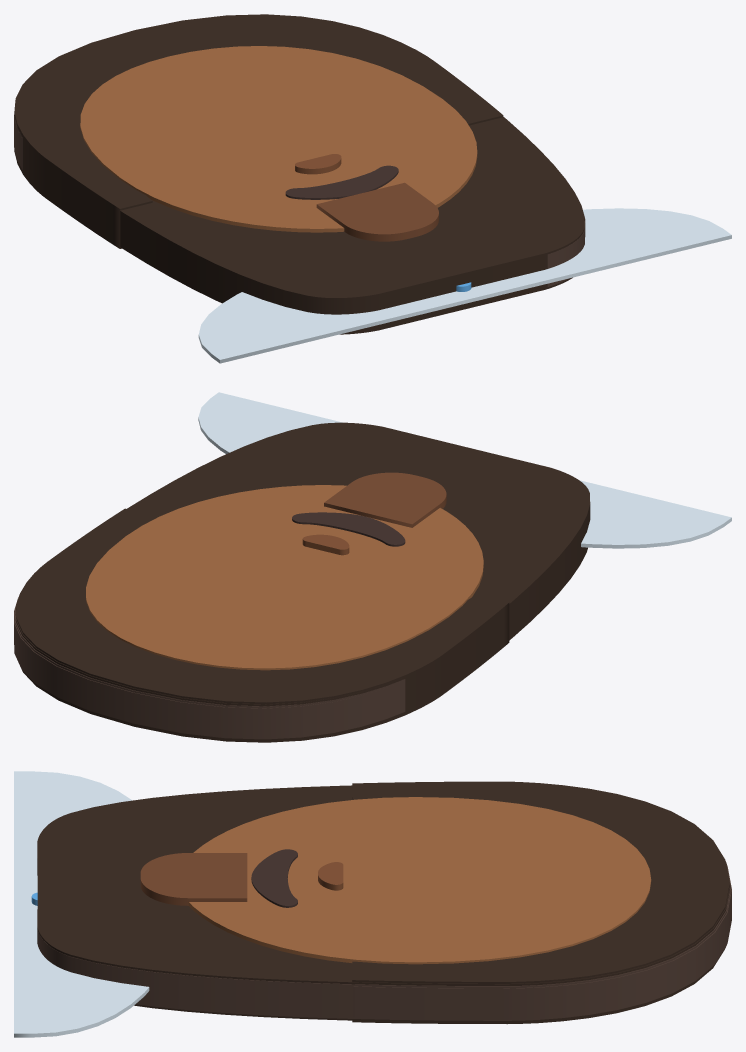
File: emoji_u1f469_1f3fe_200d_1f4bc.glb
3 views of the same model, one above another, from view 1: azimuth 30°, elevation 25°; view 2: azimuth 150°, elevation 25°; view 3: azimuth 270°, elevation 25° (orthographic). The views are drawn at different scales.
Parts seen in each view (by area): view 1: emoji_u1f469_1f3fe_200d_1f4bc; view 2: emoji_u1f469_1f3fe_200d_1f4bc; view 3: emoji_u1f469_1f3fe_200d_1f4bc.
Part boxes in pixels (x1=…): emoji_u1f469_1f3fe_200d_1f4bc: x1=14, y1=14, x2=731, y2=363; emoji_u1f469_1f3fe_200d_1f4bc: x1=14, y1=392, x2=731, y2=742; emoji_u1f469_1f3fe_200d_1f4bc: x1=14, y1=771, x2=731, y2=1037.
Size of the model in its own units: 0.0294 by 0.003 by 0.0339.
